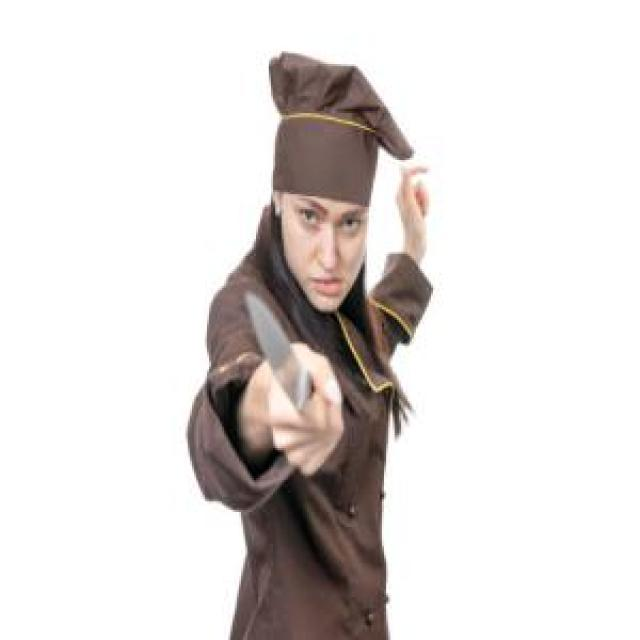knife: (241, 290, 323, 424)
